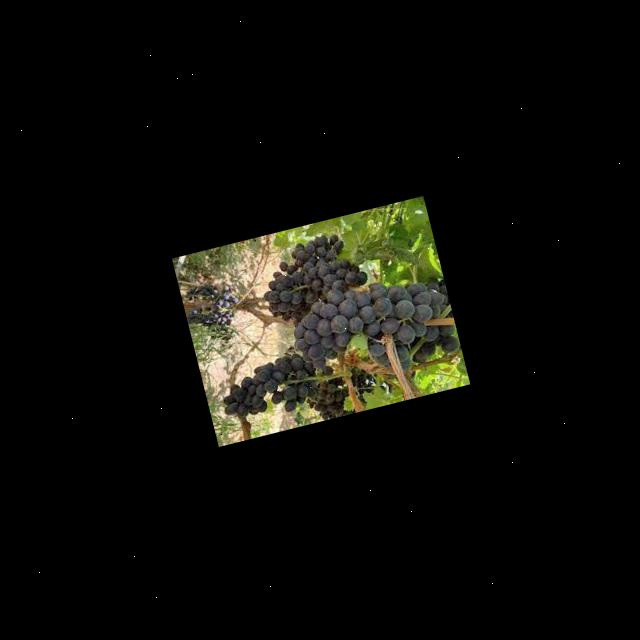grape: (189, 208, 469, 442)
